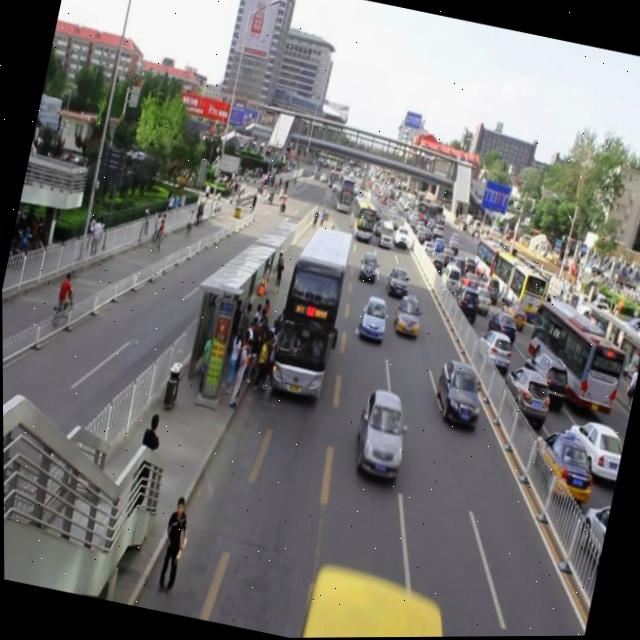car: (349, 385, 412, 481), (429, 357, 486, 431), (356, 291, 390, 342), (389, 291, 423, 337), (355, 249, 378, 286), (383, 265, 408, 297), (390, 224, 409, 250), (371, 216, 383, 237)
truck: (375, 220, 394, 250)
van: (266, 223, 353, 403), (345, 194, 376, 238)
